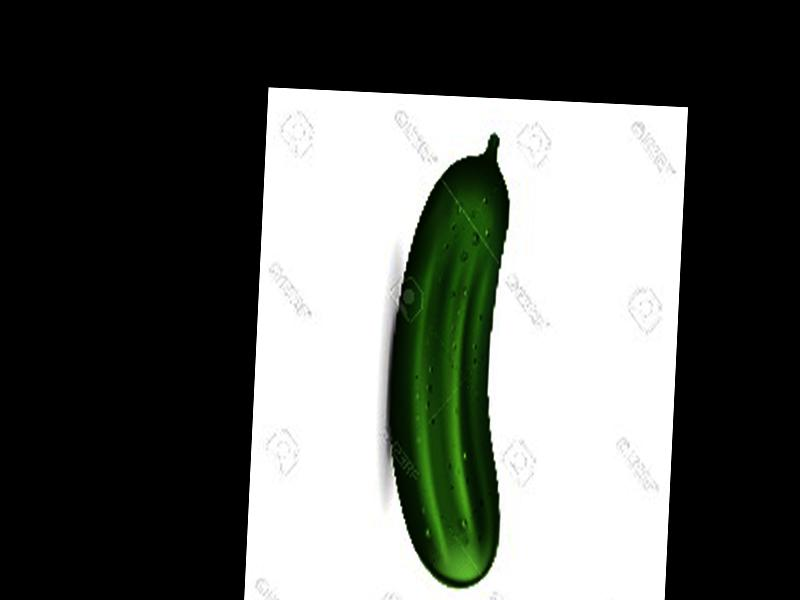Cucumber: (379, 131, 517, 589)
